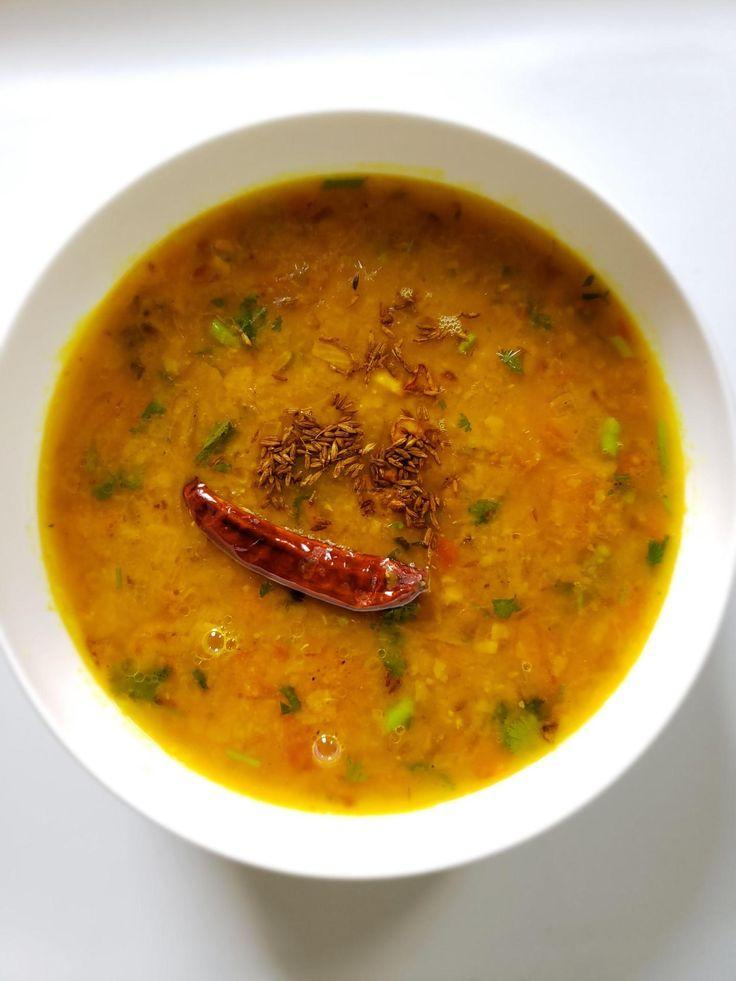daal: (35, 190, 713, 824)
